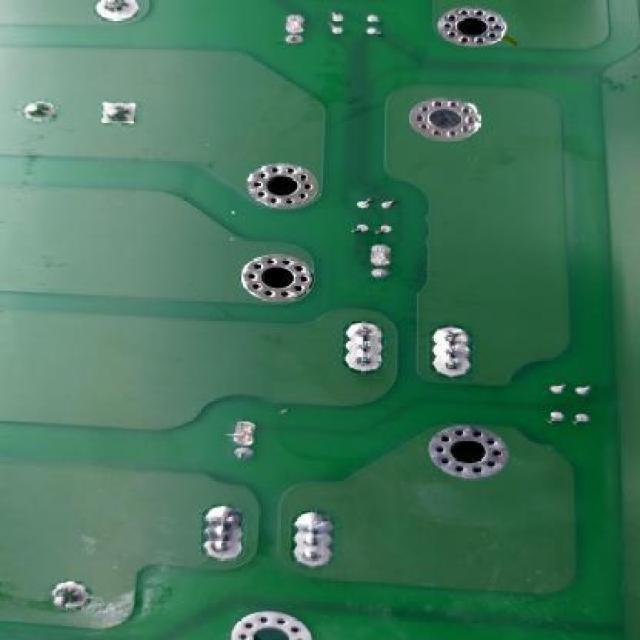Soldering shorted: (336, 314, 387, 376), (427, 322, 476, 384), (291, 508, 334, 570), (202, 500, 241, 563), (368, 241, 392, 267)
